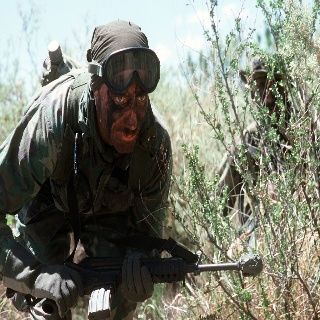rifle: (32, 253, 264, 320)
